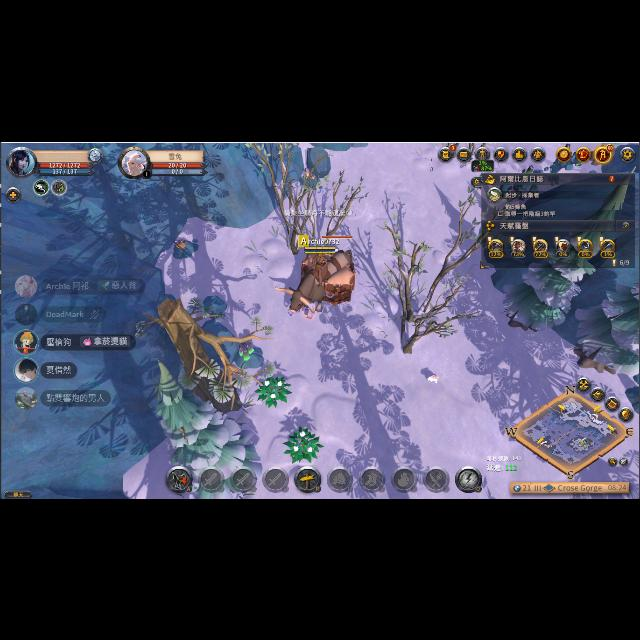mine_ii: (170, 236, 200, 258)
mine_iii: (238, 343, 262, 362)
